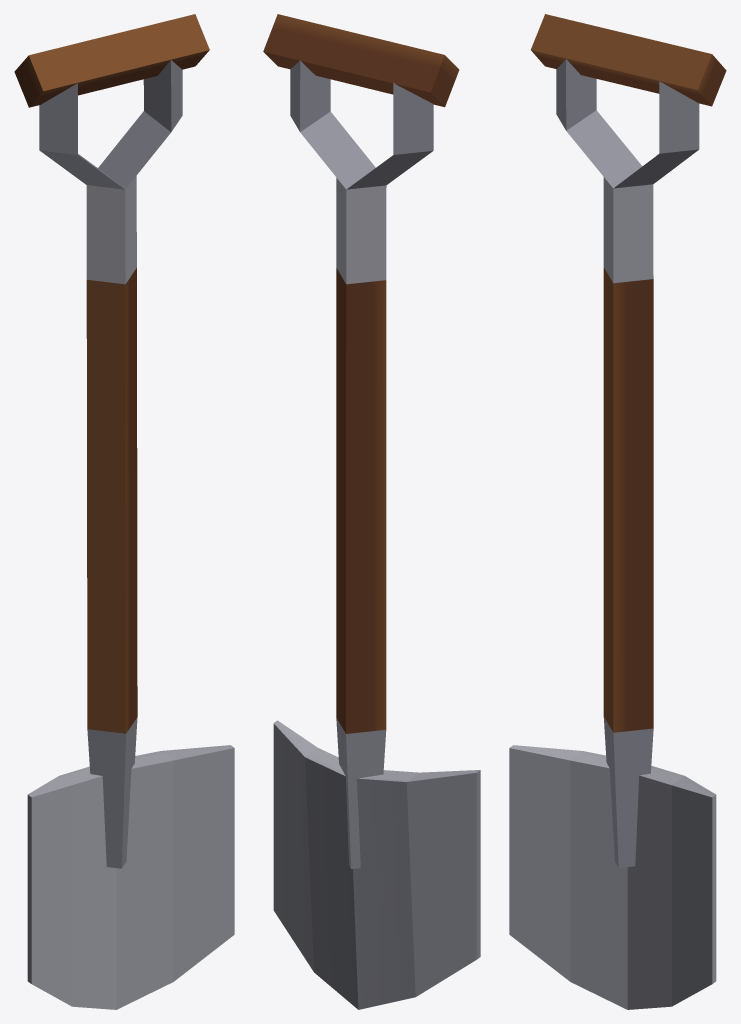
The model's file is Shovel.glb.
3 renders of one model, left to right at view 1: azimuth 30°, elevation 25°; view 2: azimuth 150°, elevation 25°; view 3: azimuth 330°, elevation 25°, orthographic.
Parts seen in each view (by area): view 1: Shovel; view 2: Shovel; view 3: Shovel.
Boxes of the visible parts, x1,y1,x2,y2 form: Shovel: [14, 14, 234, 1009]; Shovel: [263, 14, 480, 1009]; Shovel: [509, 14, 726, 1009].
Size of what is drawn, in the model's own units: 0.3359 by 1.54 by 0.0977.
Materials: 1 (1 with a texture image).
